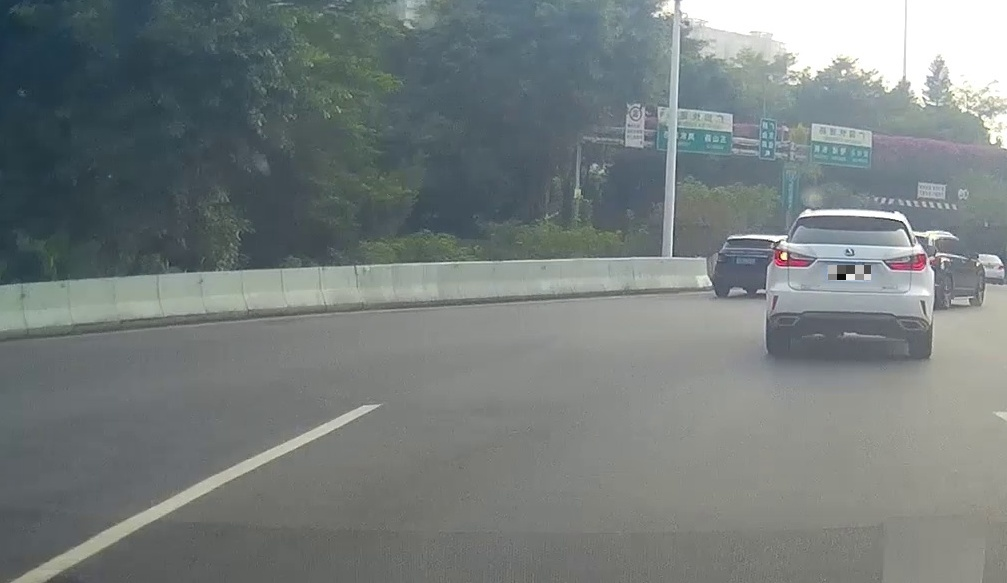L_light: (772, 248, 818, 268)
R_light: (882, 253, 927, 271)
T_light: (842, 213, 865, 220)
day-left: (766, 210, 931, 358)
plate_1: (828, 265, 871, 280)
